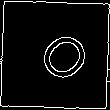O_SW: (21, 22, 89, 88)
